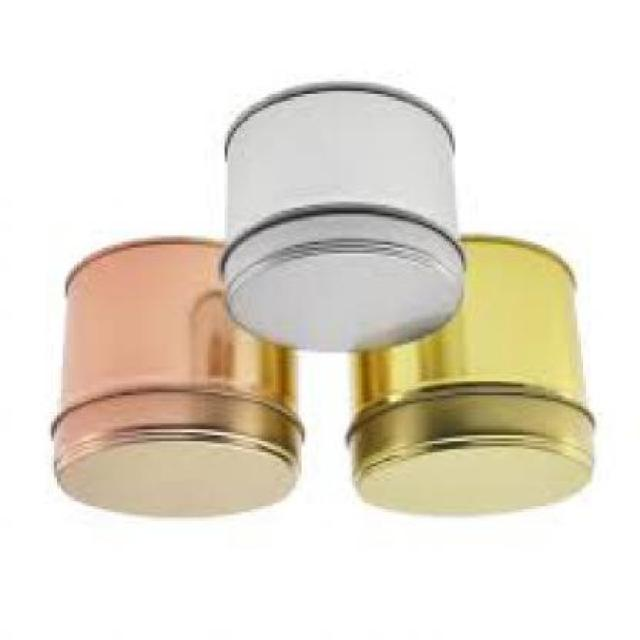METAL: (45, 242, 304, 518), (347, 239, 595, 518), (216, 89, 464, 353)
